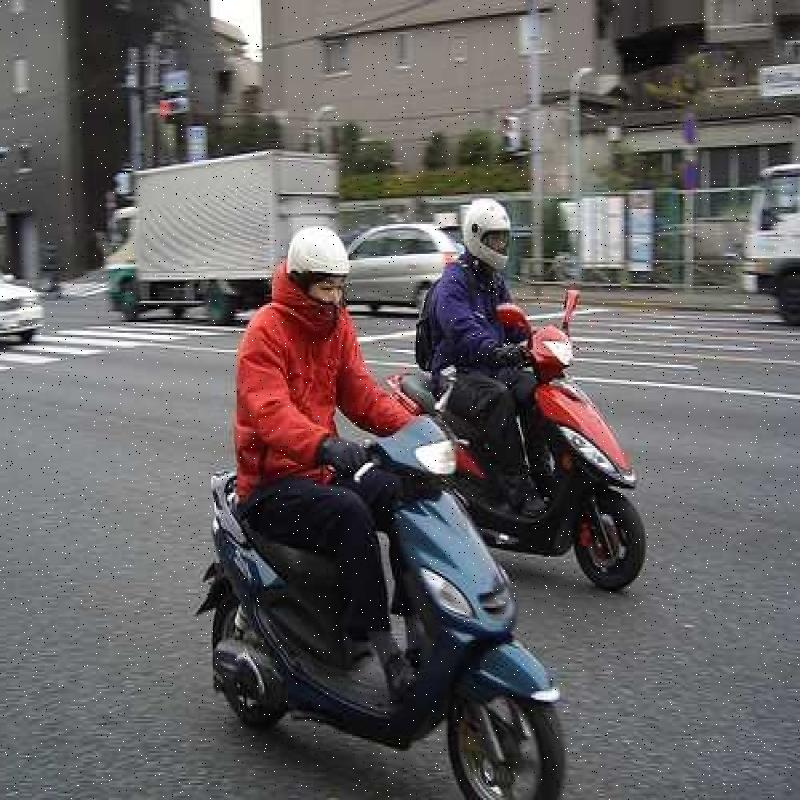bike: (137, 406, 566, 790), (484, 279, 685, 591)
